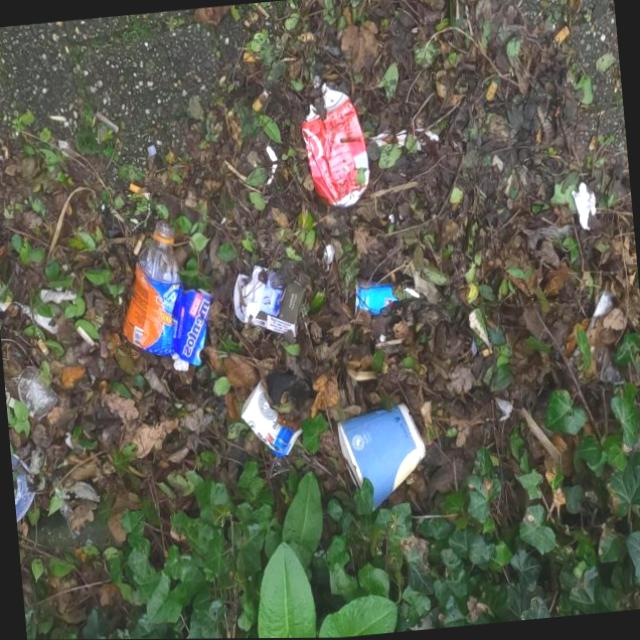Can-Metal: (300, 79, 387, 218)
Cup: (332, 400, 431, 520), (238, 374, 307, 462), (348, 271, 416, 346)
